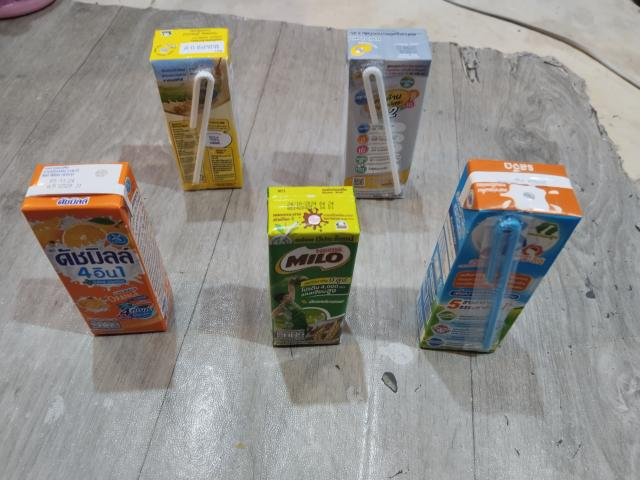drink_box: (403, 151, 605, 367), (20, 159, 178, 340), (254, 182, 362, 355), (142, 25, 249, 197), (342, 25, 435, 200)
